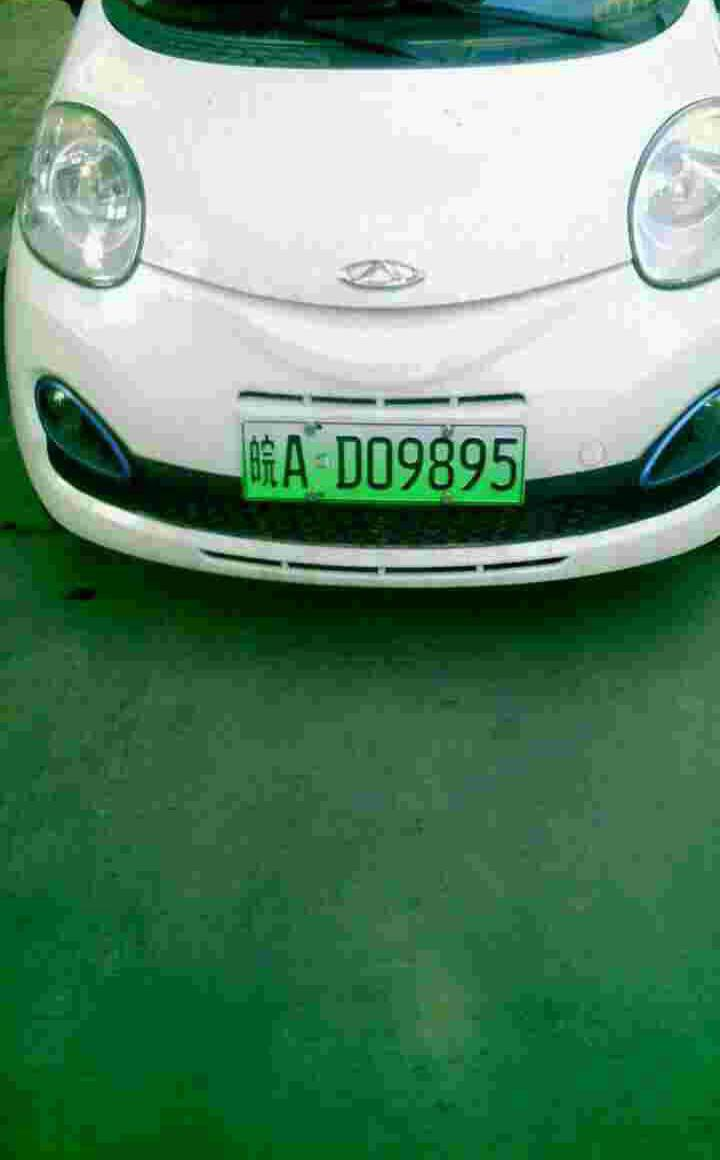car: (239, 423, 527, 507)
